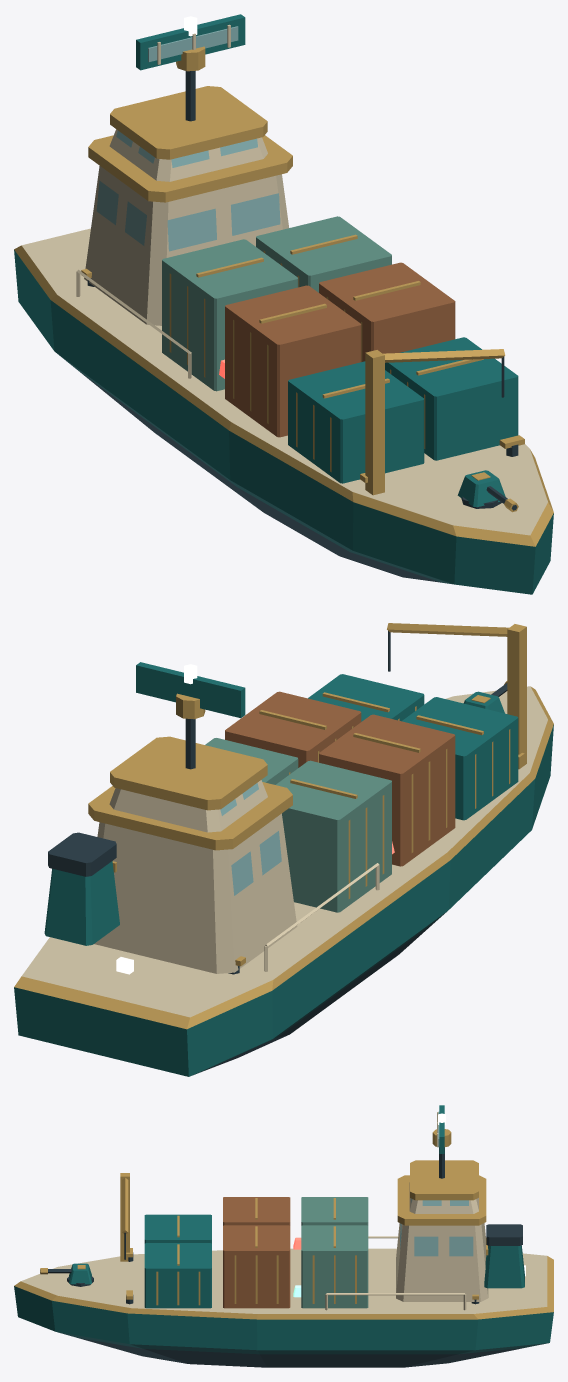
File: cargo-ship-player.glb
3 views of the same model, one above another, from view 1: azimuth 30°, elevation 25°; view 2: azimuth 150°, elevation 25°; view 3: azimuth 270°, elevation 25° (orthographic). The views are drawn at different scales.
Visible parts, largest first — view 1: hull, radar, turret; view 2: hull, funnel, radar; view 3: hull, funnel, turret, radar.
Part boxes in pixels (x1,y1,x2,y2): hull: (14,71,553,594); radar: (136,14,245,71); turret: (457,470,505,508); hull: (14,623,553,1076); funnel: (44,832,119,945); radar: (136,662,245,719); hull: (14,1147,553,1367); funnel: (484,1224,524,1288); turret: (67,1263,93,1286); radar: (432,1105,451,1153).
Size of the model in its own units: 2.03 by 3.27 by 6.9.
